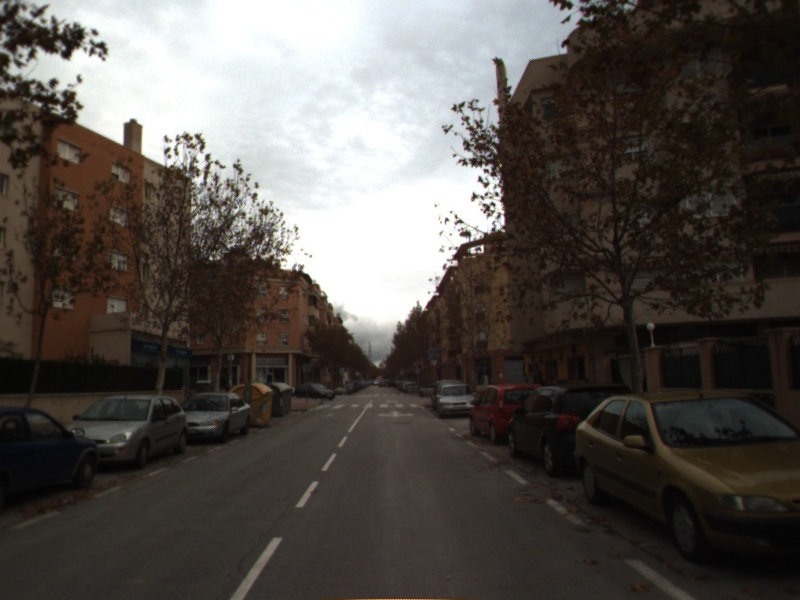STRAIGHT_LEFT_RIGHT: (375, 408, 416, 420)
